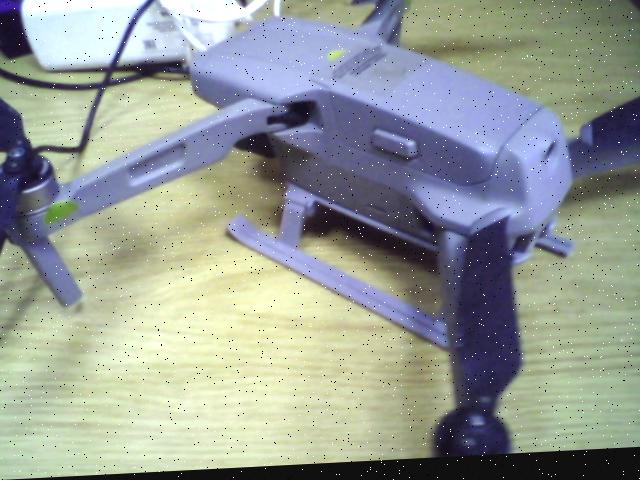drone: (0, 0, 640, 440)
